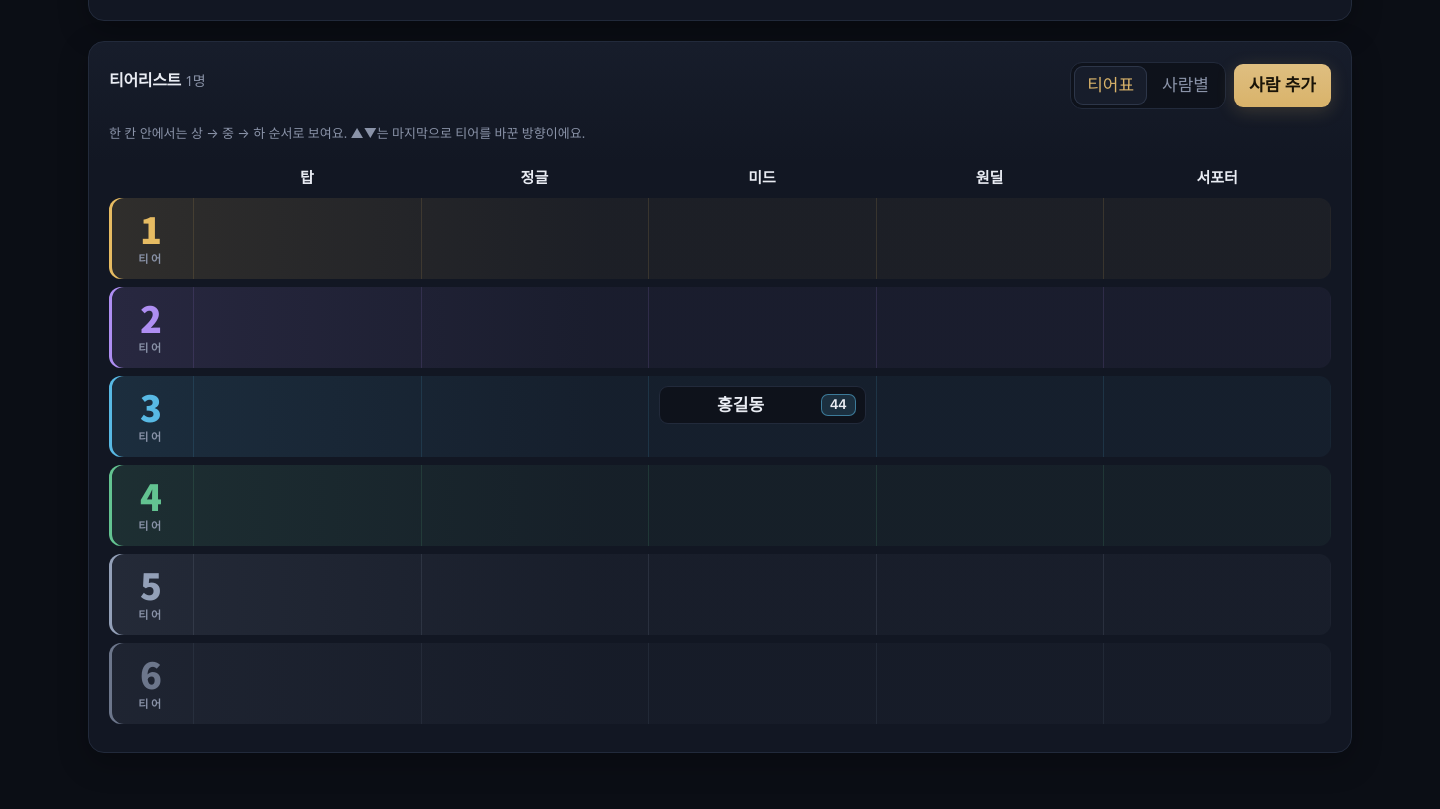
it: TierRecommendations 안전장치 › 편집기가 열려 있으면 적용 버튼이 꺼진다
The image size is (1440, 809).
(page scrolled)
Click the button with aria-label "홍길동 수정" at (762, 405), box x1=659 y1=386 x2=866 y2=424
(page scrolled)
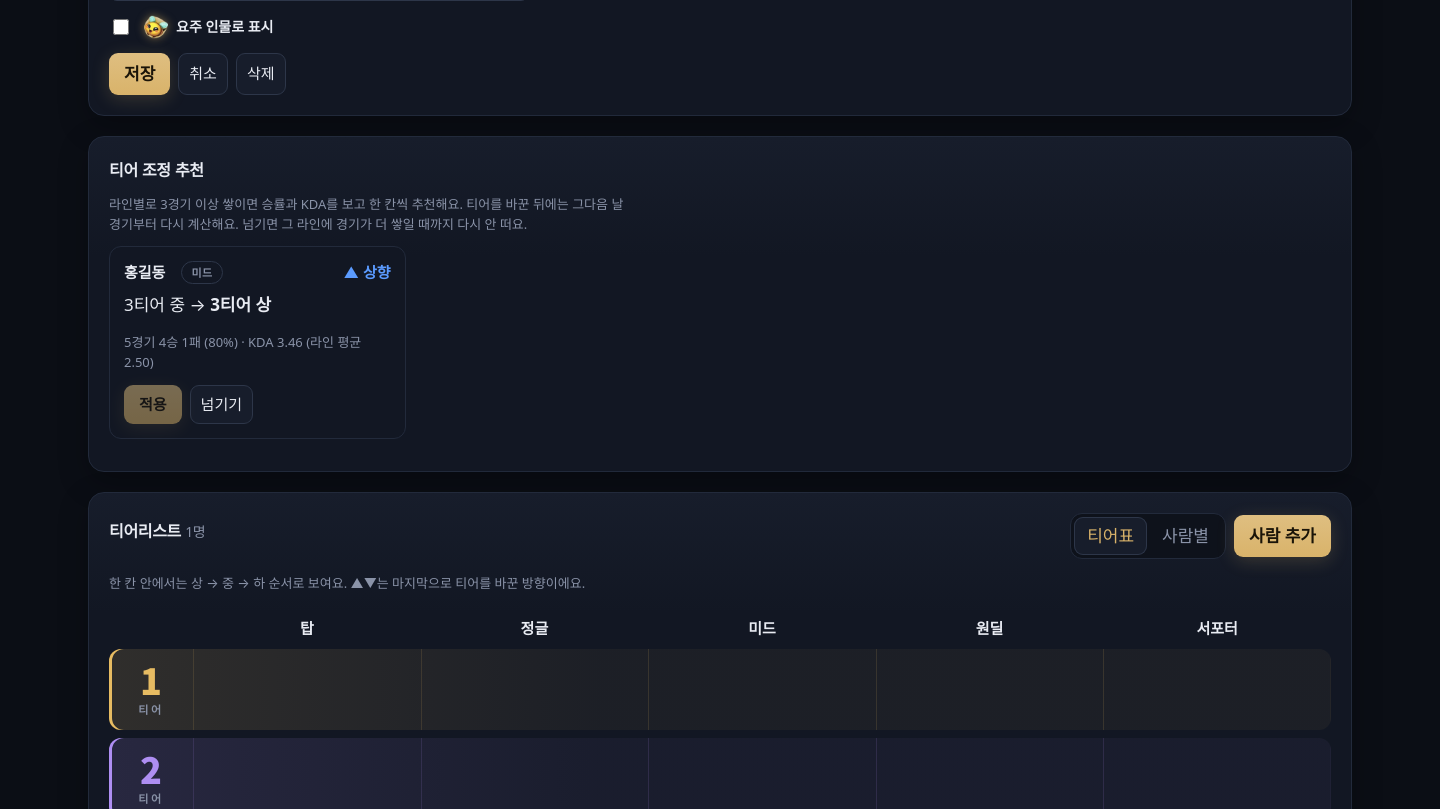
Expected: the button with aria-label "홍길동 미드 적용" is disabled, x1=124 y1=385 x2=182 y2=424
